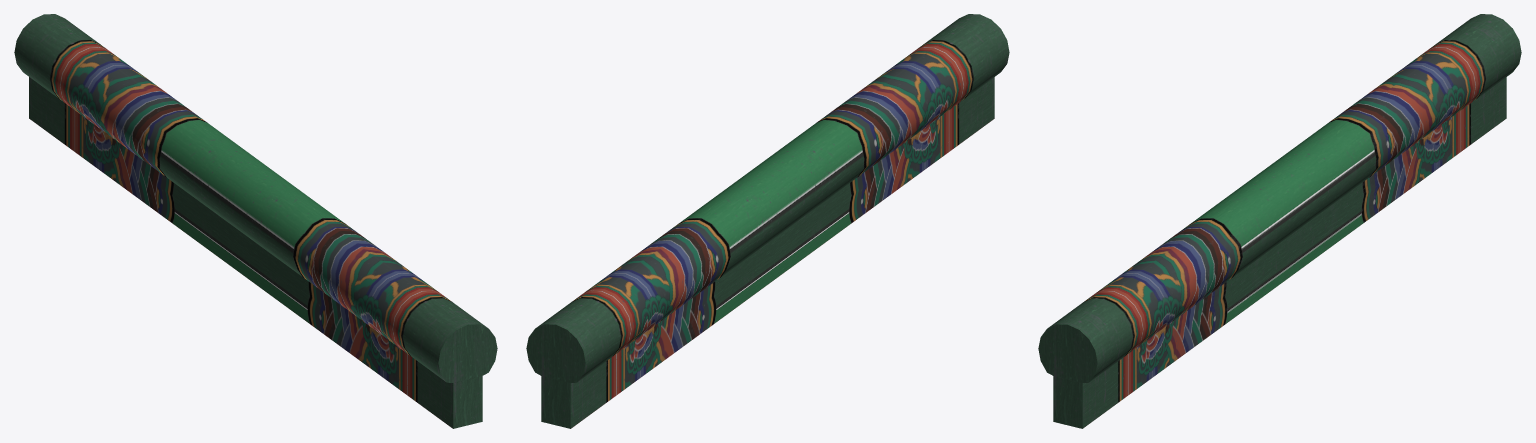
The model's file is SM_Purlin01b.fbx.
The picture shows the model from 3 angles, left to right: view 1: azimuth 30°, elevation 25°; view 2: azimuth 150°, elevation 25°; view 3: azimuth 330°, elevation 25°; orthographic projection.
Visible parts, largest first — view 1: SM_Purlin01b; view 2: SM_Purlin01b; view 3: SM_Purlin01b.
Part boxes in pixels (<box>): SM_Purlin01b: <box>14,14,497,428</box>; SM_Purlin01b: <box>526,14,1009,428</box>; SM_Purlin01b: <box>1038,14,1521,428</box>.
Size of the model in its own units: 20.15 by 250 by 32.73.
Materials: 1 (1 with a texture image).
